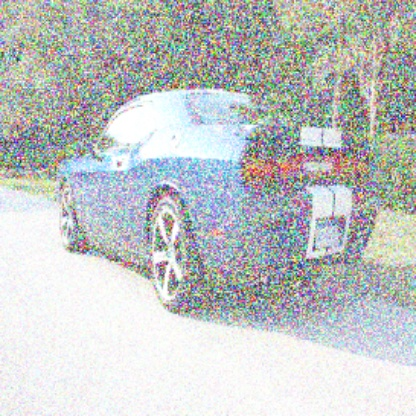Vehicle: (56, 89, 377, 311)
